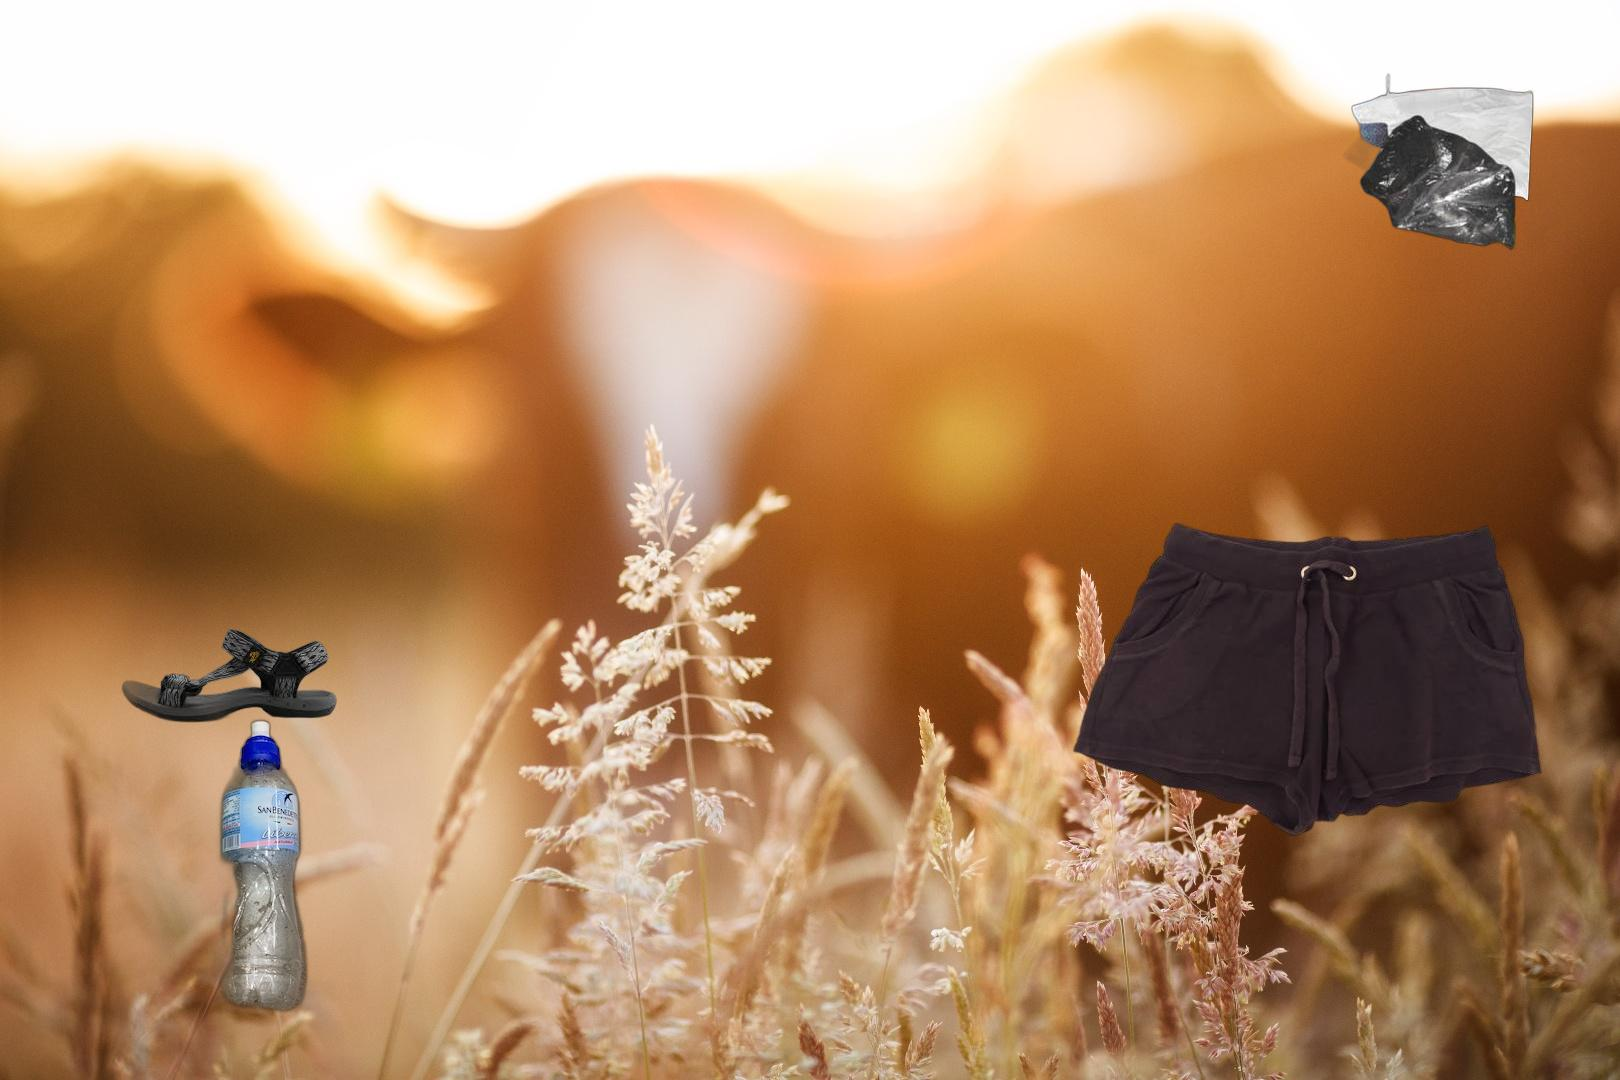clothes: (1070, 520, 1545, 840)
plastic-bag: (1342, 71, 1600, 284)
plastic-bottles: (77, 716, 372, 1037)
shoes: (119, 626, 339, 783)
